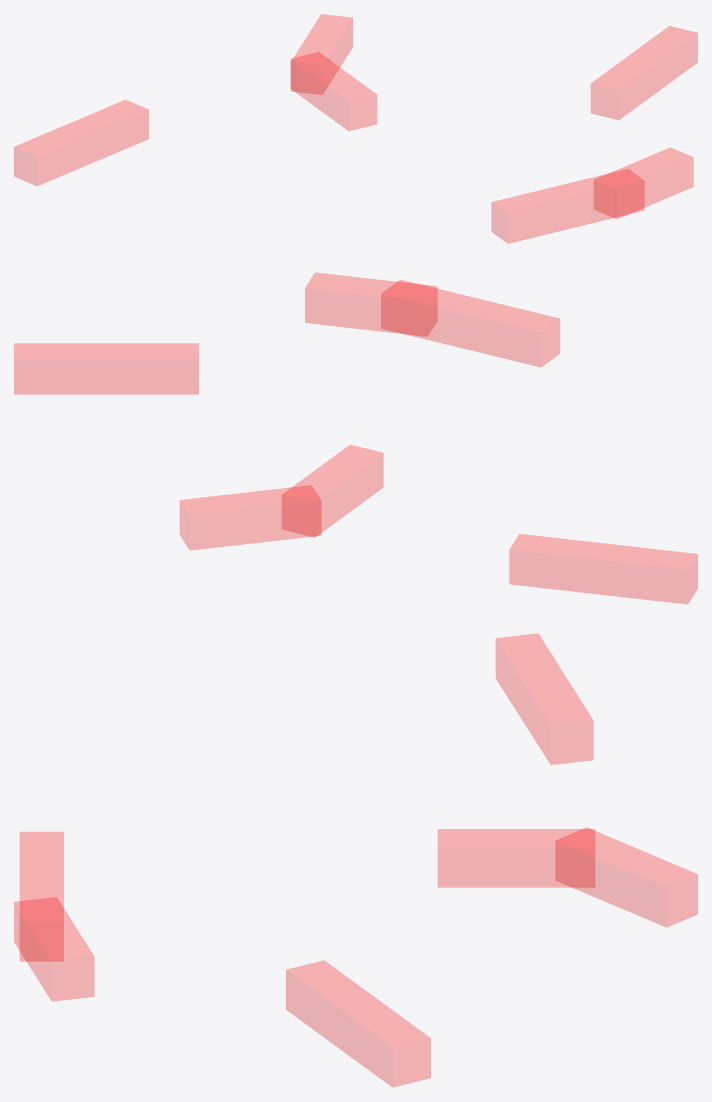
Rendered from s01b_td2-obstacles.glb.
3 views of the same model, one above another, from view 1: azimuth 30°, elevation 25°; view 2: azimuth 150°, elevation 25°; view 3: azimuth 270°, elevation 25° (orthographic). The views are drawn at different scales.
Visible parts, largest first — view 1: boulder-colonly (×6); view 2: boulder-colonly (×6); view 3: boulder-colonly (×6).
Part boxes in pixels (x1,y1,x2,y2): boulder-colonly (×6): (14, 14, 697, 243); boulder-colonly (×6): (14, 272, 697, 604); boulder-colonly (×6): (14, 633, 697, 1087).
Bounding box in the file's own units: 44.21 × 2 × 30.86.
